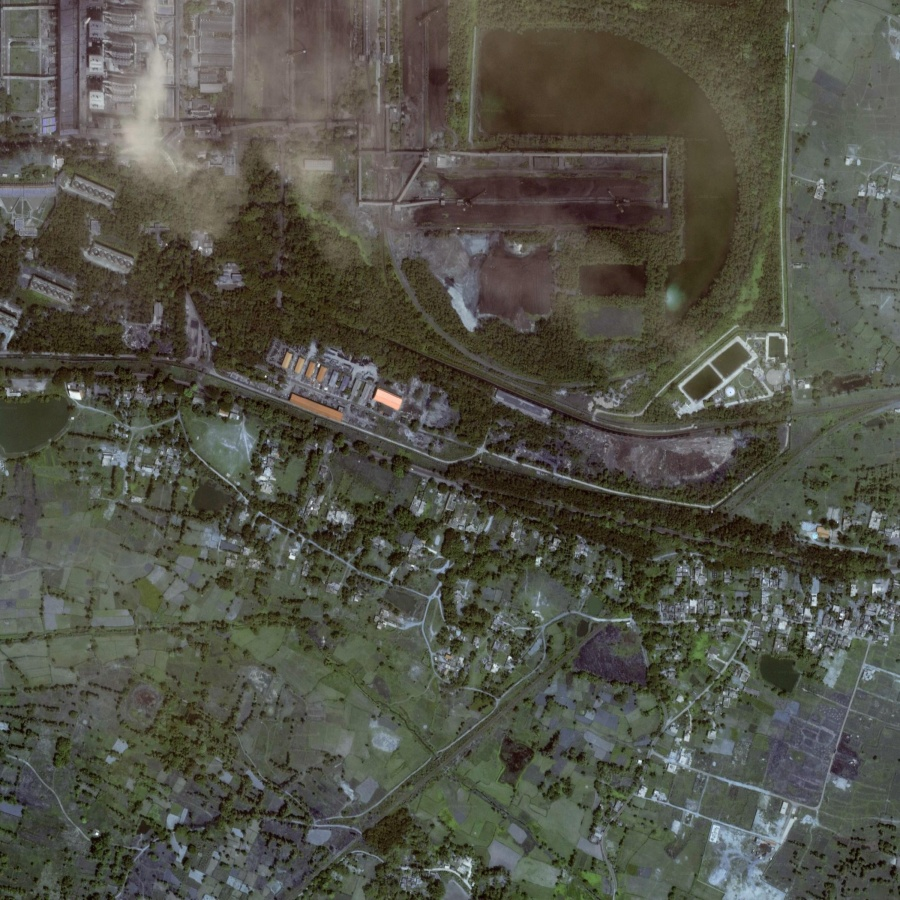PowerPlant: (394, 151, 678, 337)
